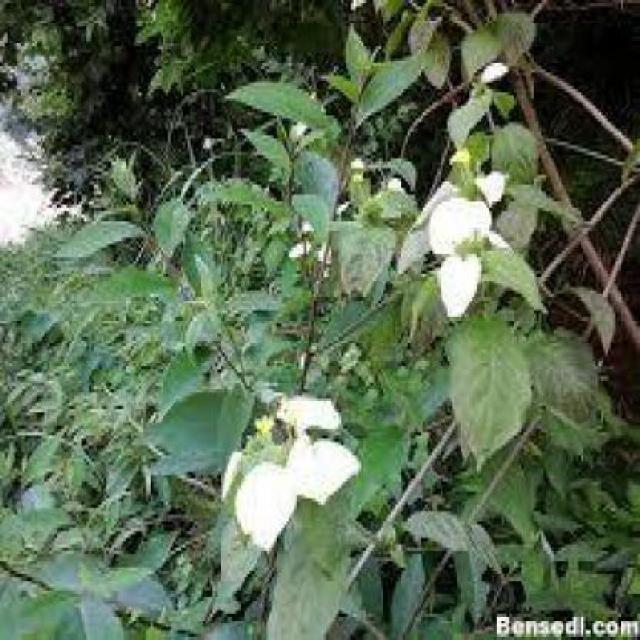flower: (228, 384, 358, 553), (416, 128, 518, 330)
